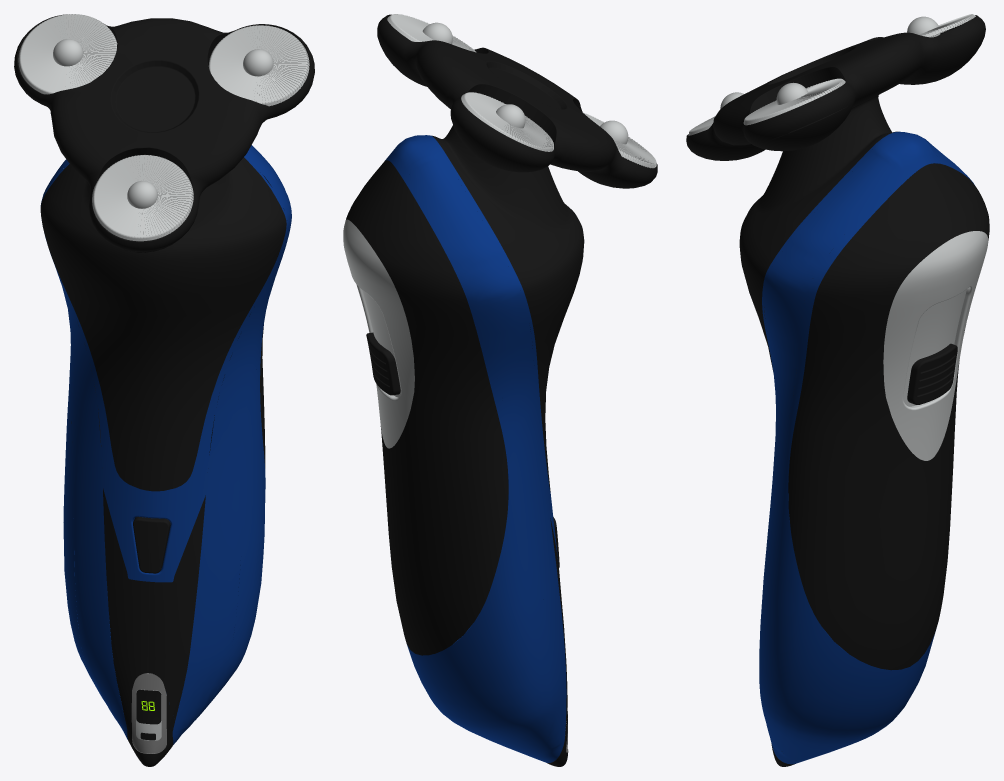
Rendered from uploads_files_2877315_Shaver.FBX.
3 renders of one model, left to right at view 1: azimuth 30°, elevation 25°; view 2: azimuth 150°, elevation 25°; view 3: azimuth 270°, elevation 25°, orthographic. The views are drawn at different scales.
Visible parts, largest first — view 1: Body, object_345, object_344, object_346, object_352, object_347, object_351, object_340, object_342, object_334, object_204, object_3 (+2 smaller); view 2: object_348, Body, object_347, object_346, object_349, object_352, object_350; view 3: object_348, Body, object_347, object_349, object_345, object_350, object_352, object_346.
Boxes of the visible parts, x1,y1,x2,y2 form: Body: [14, 14, 314, 491]; object_345: [172, 145, 291, 744]; object_344: [103, 488, 205, 719]; object_346: [42, 159, 127, 739]; object_352: [40, 155, 287, 582]; object_347: [63, 162, 287, 720]; object_351: [133, 516, 170, 573]; object_340: [131, 674, 166, 753]; object_342: [124, 691, 175, 766]; object_334: [136, 689, 161, 724]; object_204: [127, 181, 157, 208]; object_3: [53, 39, 83, 66]; object_348: [346, 160, 508, 655]; Body: [377, 14, 657, 492]; object_347: [385, 152, 551, 758]; object_346: [397, 139, 566, 762]; object_349: [343, 219, 414, 448]; object_352: [428, 135, 558, 561]; object_350: [366, 332, 400, 395]; object_348: [788, 163, 989, 670]; Body: [686, 15, 985, 475]; object_347: [760, 154, 974, 761]; object_349: [883, 231, 988, 460]; object_345: [759, 135, 921, 764]; object_350: [907, 343, 957, 404]; object_352: [762, 131, 937, 527]; object_346: [800, 132, 962, 761].
Size of the model in its own units: 3.71 by 10.56 by 3.85.
